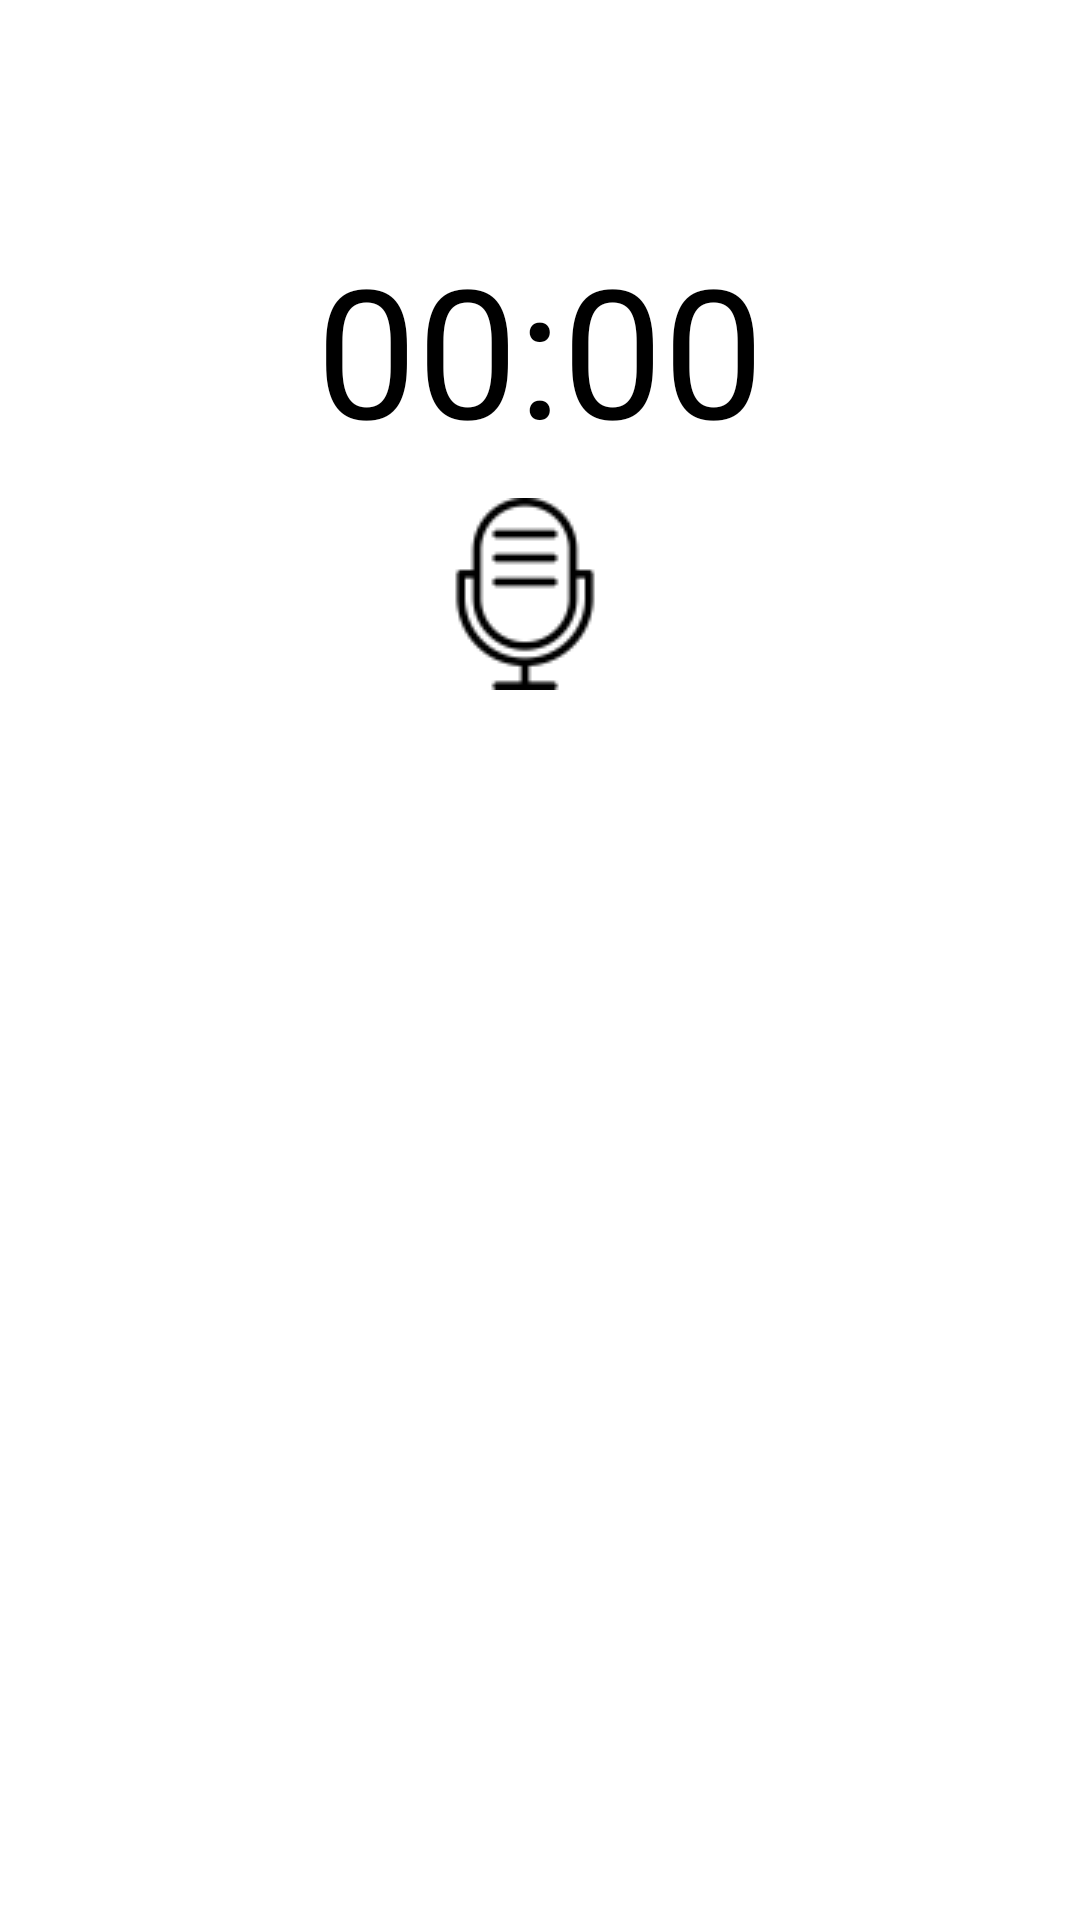

Point at icon controls on the screen. Image size 1080x1920, points as (x,y).
microphone: (525,594)
